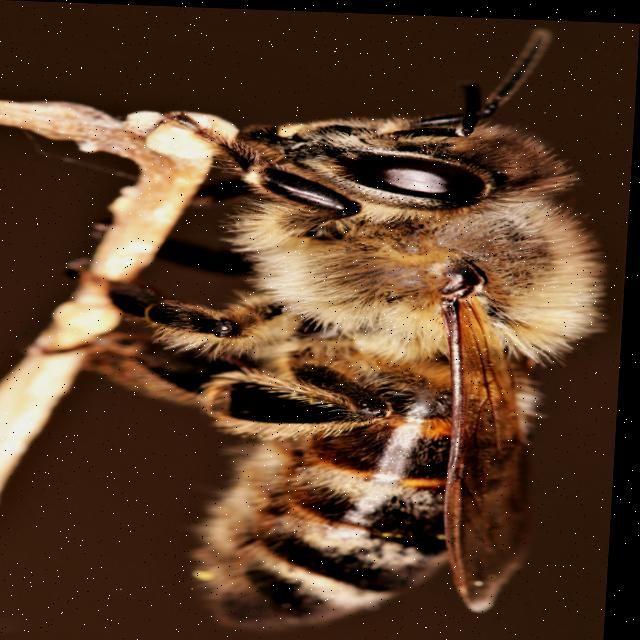Lasioglossum: (120, 4, 596, 640)
